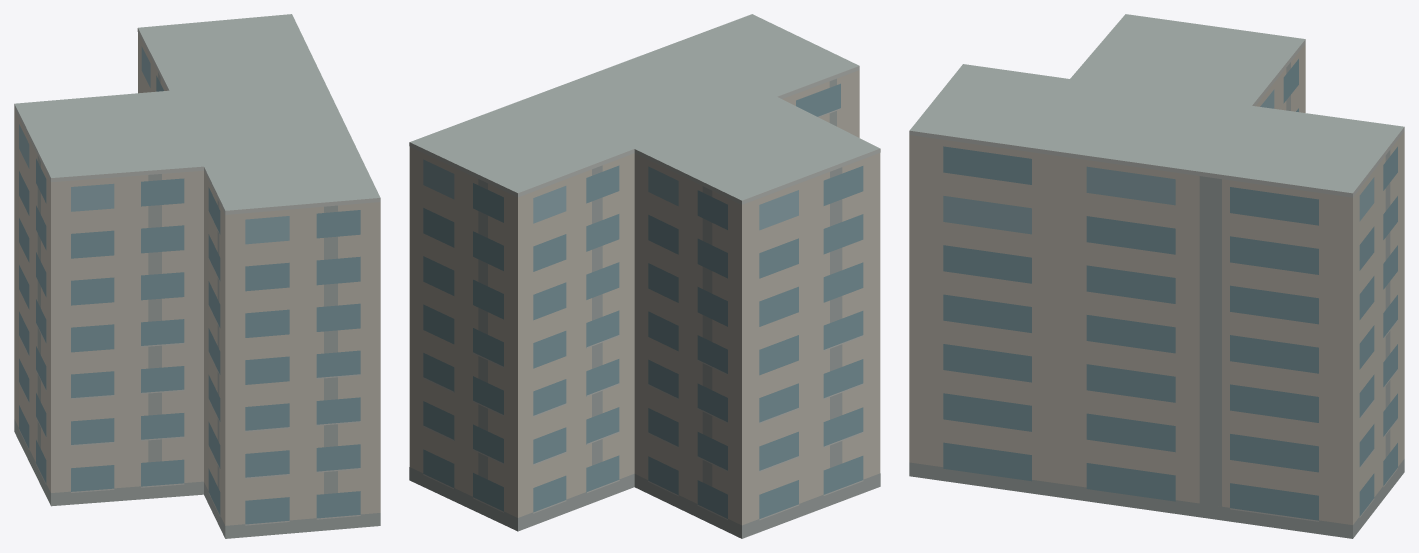
File: survey-upis-32569736.glb
3 renders of one model, left to right at view 1: azimuth 30°, elevation 25°; view 2: azimuth 150°, elevation 25°; view 3: azimuth 270°, elevation 25°, orthographic. The views are drawn at different scales.
Parts seen in each view (by area): view 1: survey-upis-32569736.tmp; view 2: survey-upis-32569736.tmp; view 3: survey-upis-32569736.tmp.
Boxes of the visible parts, x1,y1,x2,y2 form: survey-upis-32569736.tmp: (14,14,380,538); survey-upis-32569736.tmp: (409,14,880,538); survey-upis-32569736.tmp: (909,14,1404,538).
Bounding box in the file's own units: 21.6 × 19.4 × 25.2.
